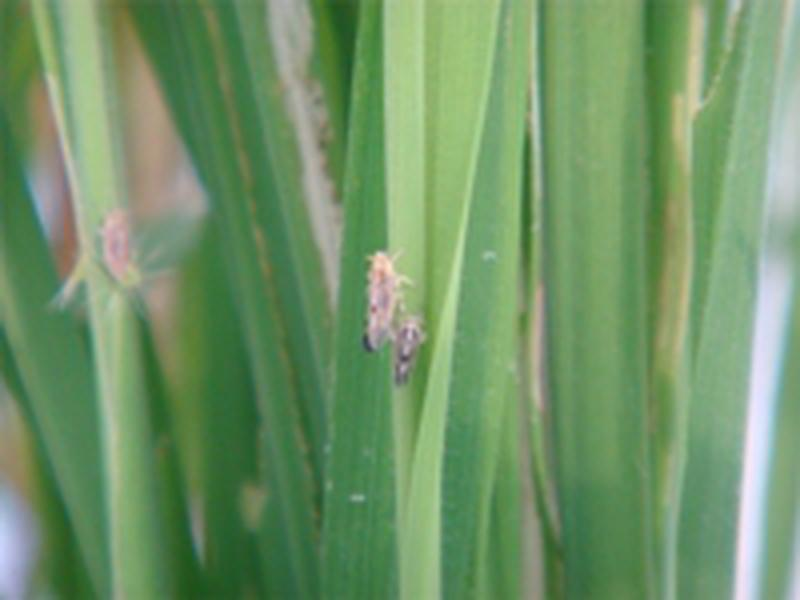White_backed_plant_hopper: (331, 244, 448, 398)
